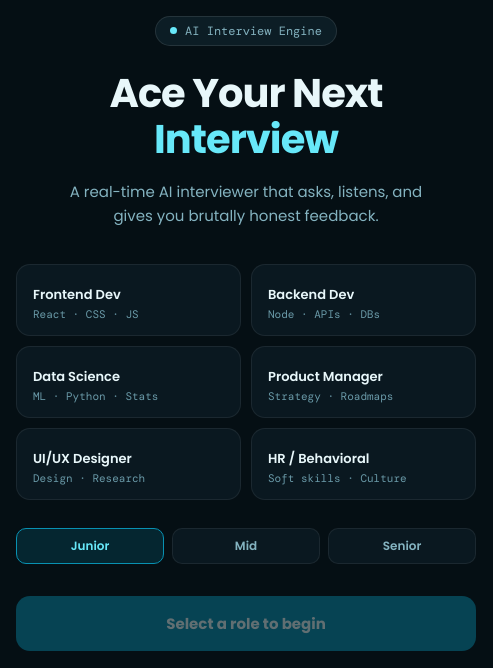
Test case: RoleSelector › start button enables after role is selected
Click the text "Frontend Dev".
click(77, 294)  # box left=33, top=284, right=121, bottom=304
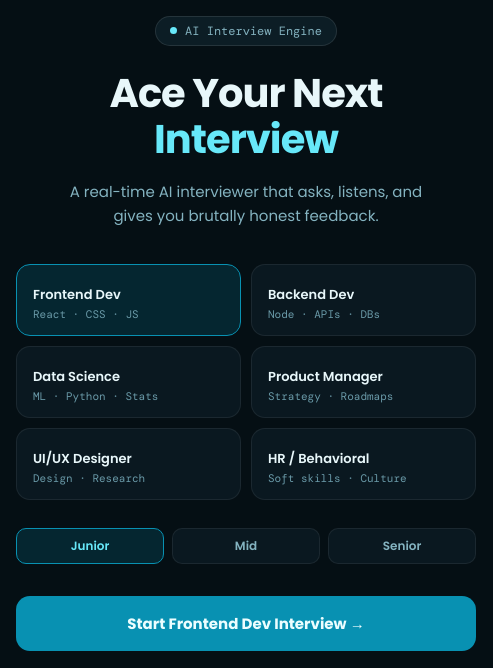
Result: the button "Start Frontend Dev Interview →" is enabled at left=16, top=596, right=476, bottom=650
